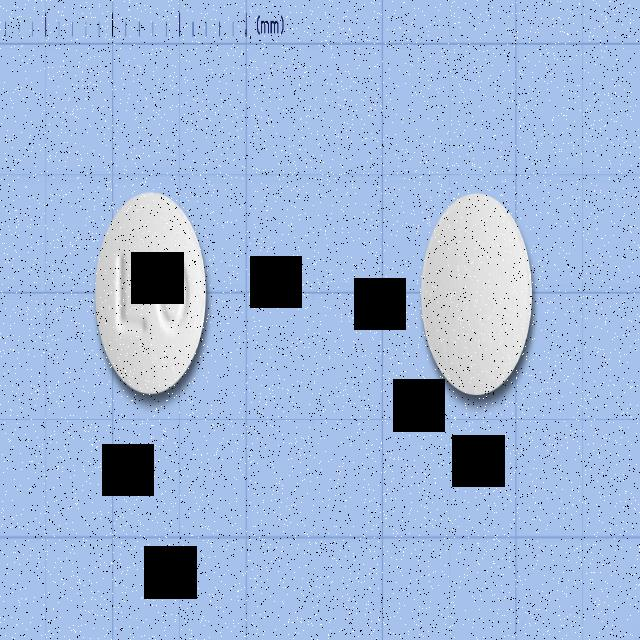Lebofacin: (95, 190, 207, 396)
